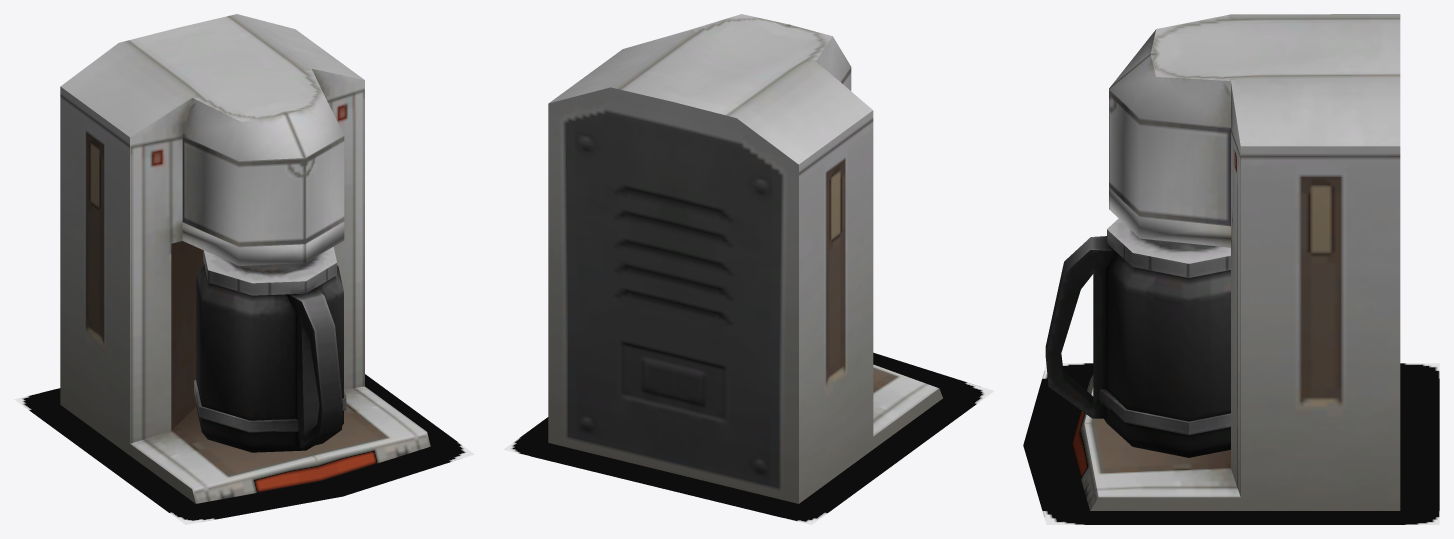
File: jj_ty_shuihu03.FBX
3 views of the same model, side by side, from view 1: azimuth 30°, elevation 25°; view 2: azimuth 150°, elevation 25°; view 3: azimuth 270°, elevation 25° (orthographic). The views are drawn at different scales.
Parts seen in each view (by area): view 1: jj_ty_shuihu03, shadow; view 2: jj_ty_shuihu03, shadow; view 3: jj_ty_shuihu03, shadow.
Boxes of the visible parts, x1,y1,x2,y2 form: jj_ty_shuihu03: (60,14,430,503); shadow: (14,374,474,524); jj_ty_shuihu03: (548,14,942,503); shadow: (503,352,994,524); jj_ty_shuihu03: (1045,14,1400,510); shadow: (1023,363,1439,524).
Bounding box in the file's own units: 33.1 × 39.19 × 36.04.
